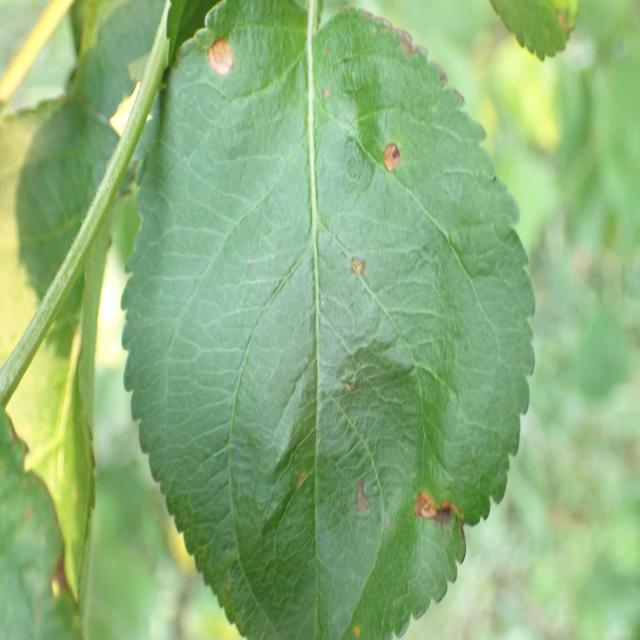Black Rot: (401, 470, 467, 552), (356, 105, 417, 192), (192, 17, 240, 103), (348, 240, 388, 303)
